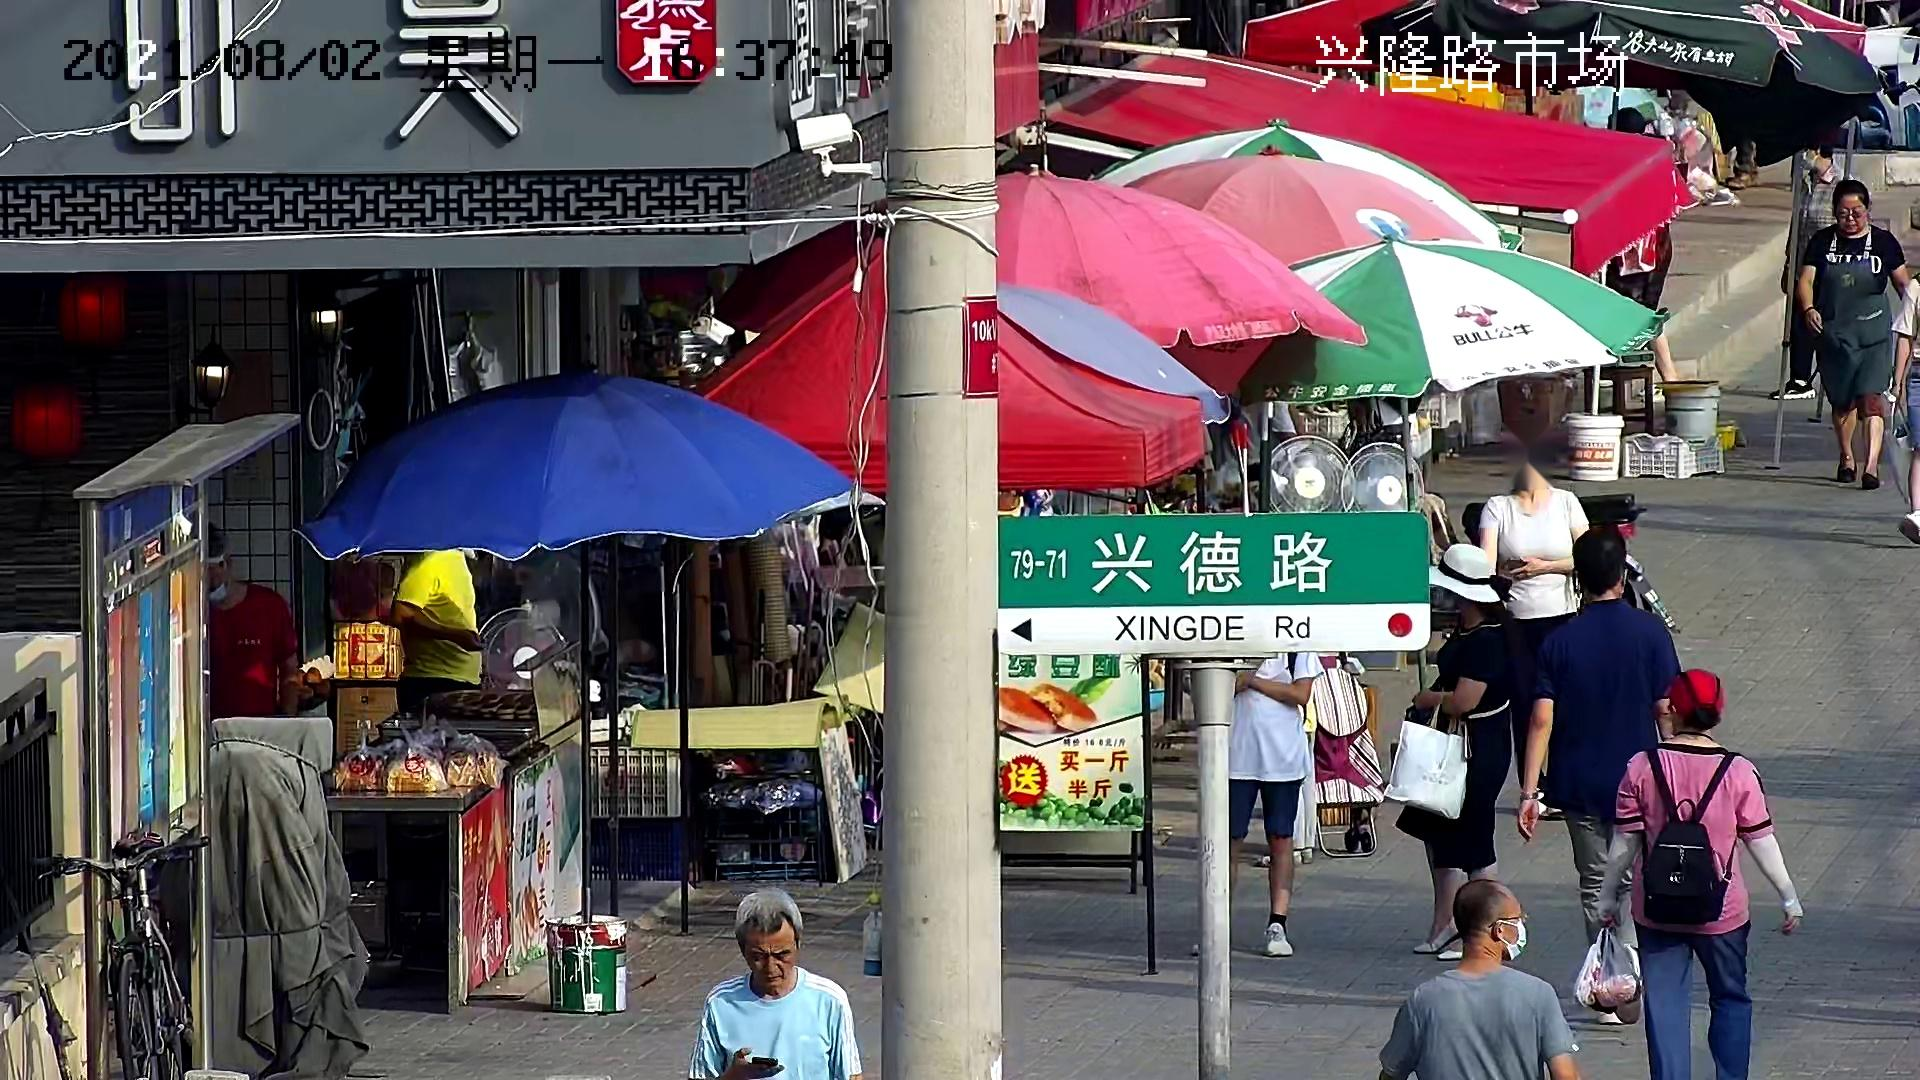umbrella: (702, 237, 1208, 479), (291, 378, 886, 560), (1356, 4, 1883, 167), (1229, 239, 1675, 407), (989, 164, 1370, 351), (1089, 124, 1524, 252), (1116, 149, 1486, 265), (1240, 7, 1870, 65), (997, 280, 1234, 425)
